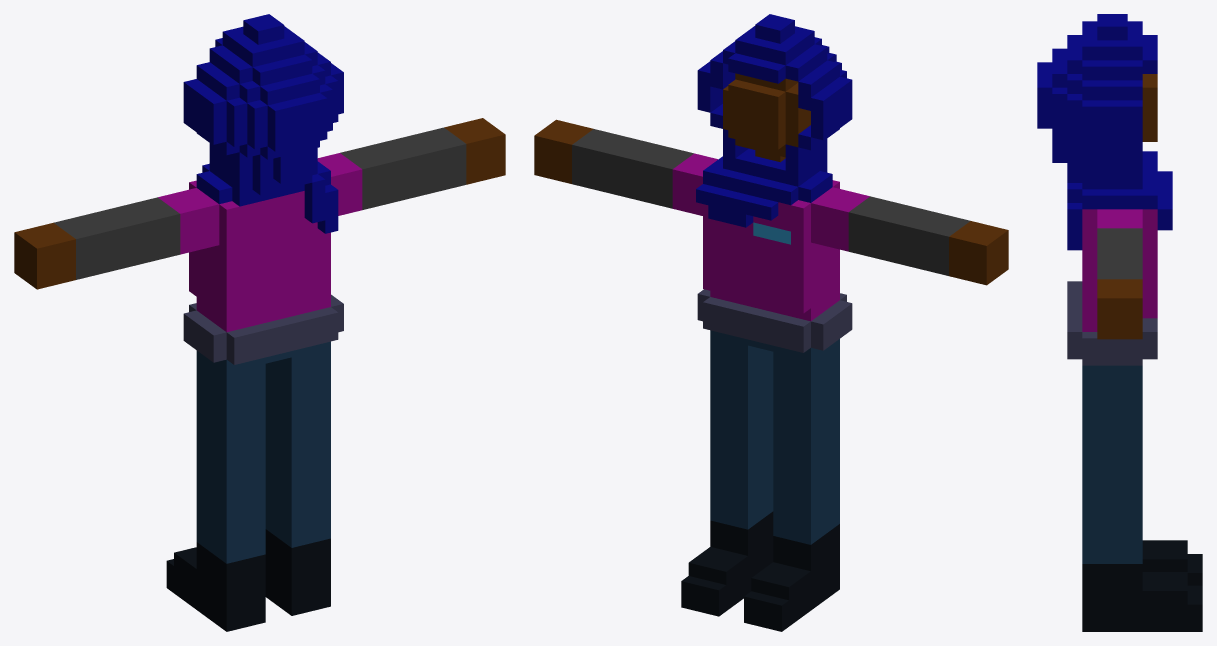
Rendered from MC_scaled_voxel.fbx.
3 renders of one model, left to right at view 1: azimuth 30°, elevation 25°; view 2: azimuth 150°, elevation 25°; view 3: azimuth 270°, elevation 25°, orthographic. The views are drawn at different scales.
Parts seen in each view (by area): view 1: Matrix; view 2: Matrix; view 3: Matrix.
Boxes of the visible parts, x1,y1,x2,y2 form: Matrix: (14, 14, 505, 631); Matrix: (534, 14, 1008, 631); Matrix: (1037, 14, 1202, 631).
Size of the model in its own units: 153 by 182 by 46.6.
